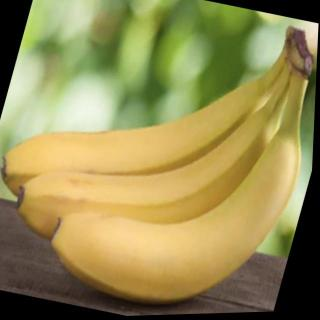banana: (4, 8, 306, 299), (0, 0, 296, 280), (39, 23, 319, 319)
